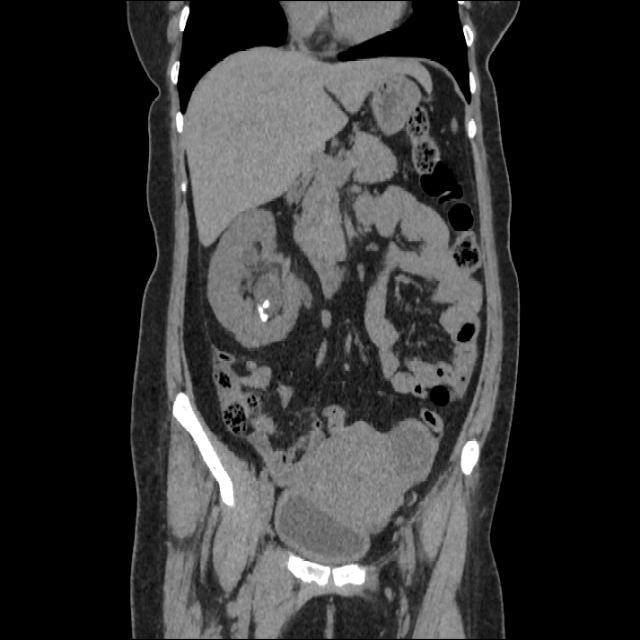kidney: (224, 232, 291, 336)
stone: (258, 301, 268, 319)
